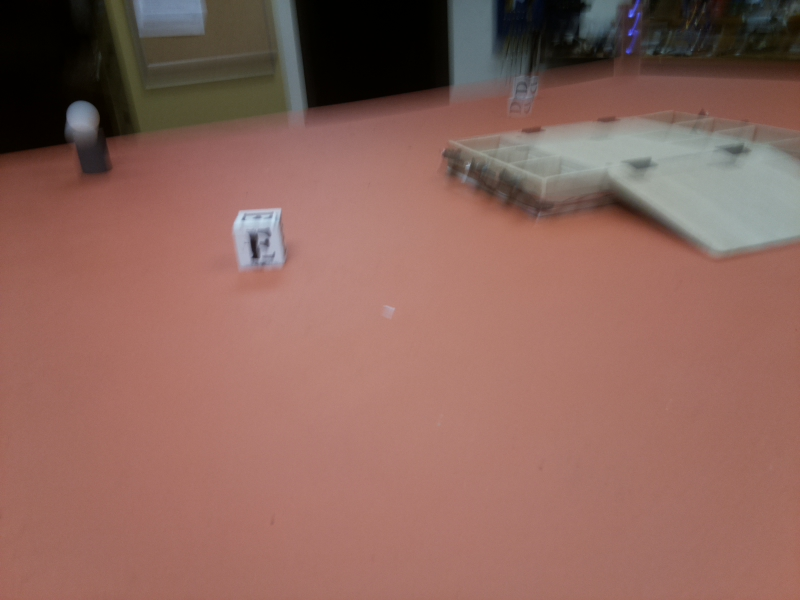blockD: (508, 78, 539, 106)
blockE: (228, 207, 292, 271)
obstacle: (61, 99, 119, 177)
side: (440, 139, 547, 227), (694, 108, 751, 126)
slope: (597, 144, 800, 261), (476, 116, 637, 133)
